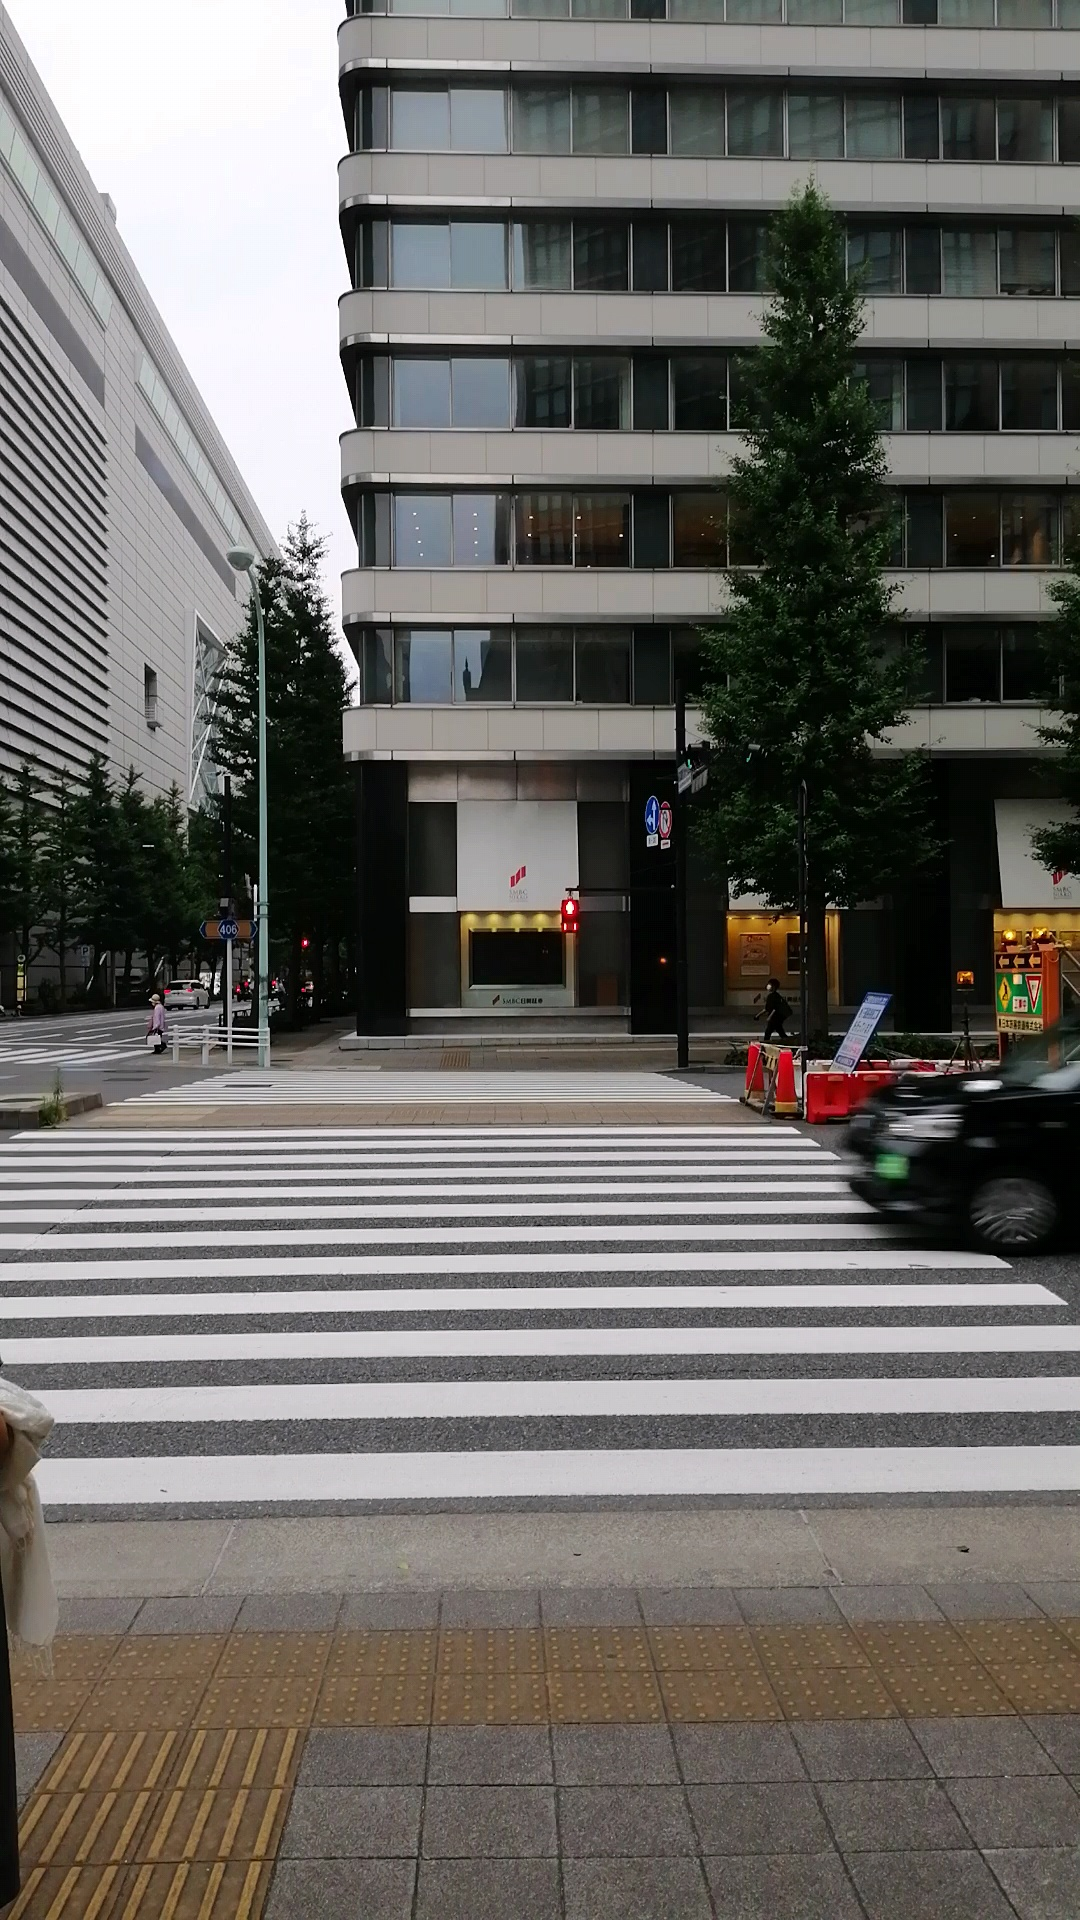red: (559, 898, 580, 934)
